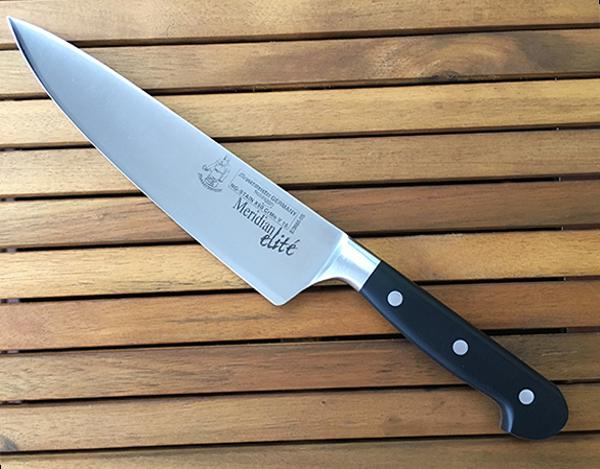knife: (7, 15, 570, 440)
